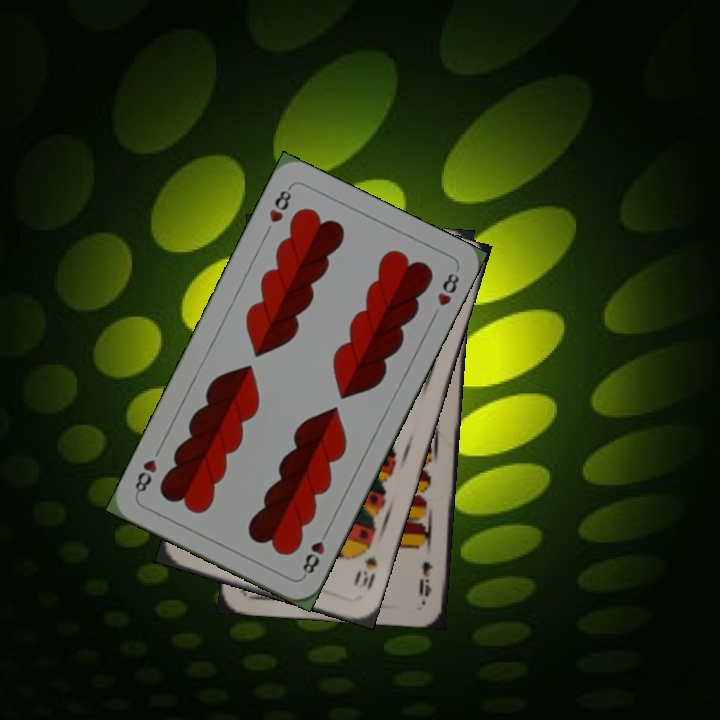E9: (415, 558, 435, 599)
H8: (298, 525, 332, 580), (265, 182, 294, 226)
S10: (349, 551, 380, 591)
